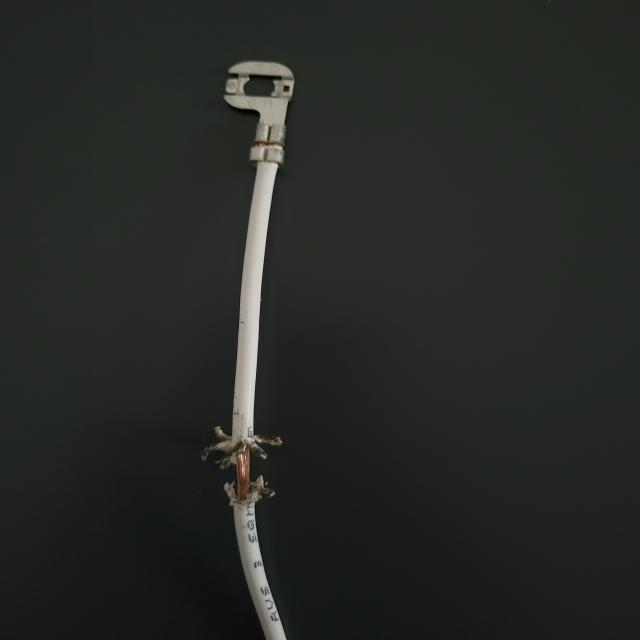defect: (147, 397, 392, 563)
